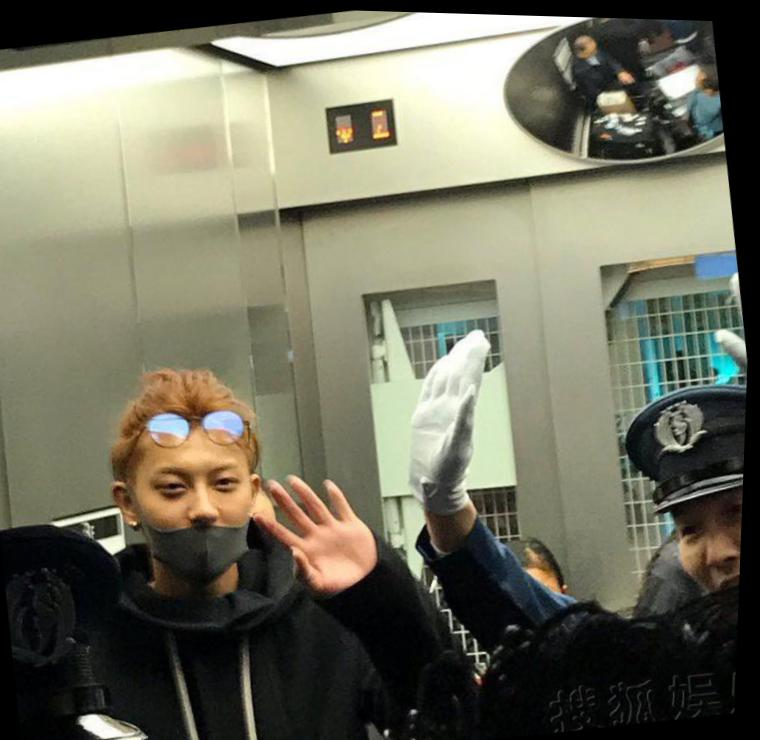NONE: (669, 474, 747, 626)
WRONG: (139, 437, 263, 588)
